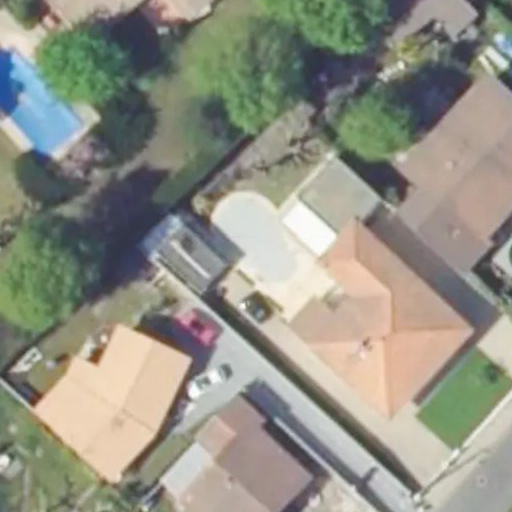pool: (208, 230, 309, 248)
